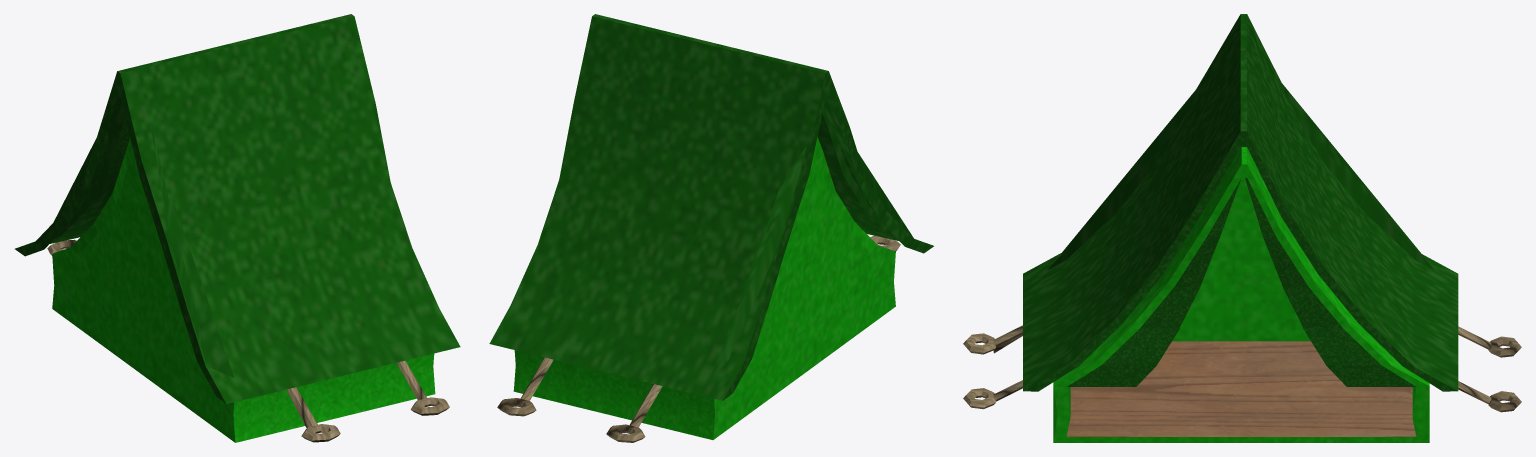
The model's file is twnt import.fbx.
The picture shows the model from 3 angles, left to right: view 1: azimuth 30°, elevation 25°; view 2: azimuth 150°, elevation 25°; view 3: azimuth 270°, elevation 25°; orthographic projection. The views are drawn at different scales.
Parts seen in each view (by area): view 1: polySurface21; view 2: polySurface21; view 3: polySurface21.
Part boxes in pixels (x1,y1,x2,y2): polySurface21: (15, 14, 460, 442); polySurface21: (489, 14, 933, 442); polySurface21: (963, 14, 1521, 442).
Size of the model in its own units: 117 by 147 by 236.
